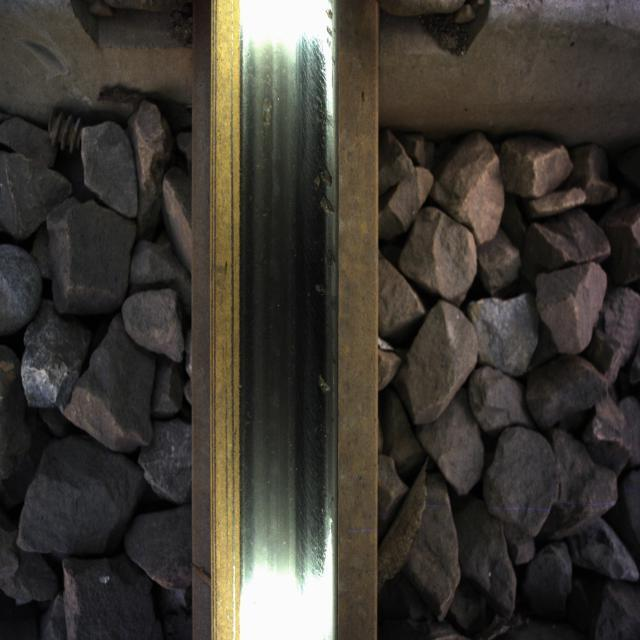crack: (276, 345, 339, 430), (240, 76, 291, 146)
